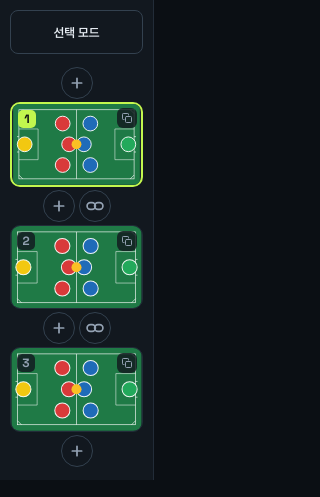
Test: 롱프레스 — 터치도 같은 메뉴에 닿는다(2026-08-20, 진입 방식 마우스/터치 일관성) › 터치로 500ms 누르고 있으면 우클릭과 같은 메뉴가 열린다
Step 1. Press the mouse on the button "2" → (76, 267), box left=10, top=225, right=143, bottom=309
Wait 500 ms
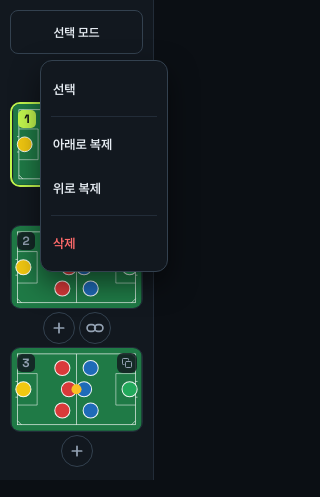
Now the menu named "스텝 2 메뉴" is shown, box left=40, top=60, right=168, bottom=272
